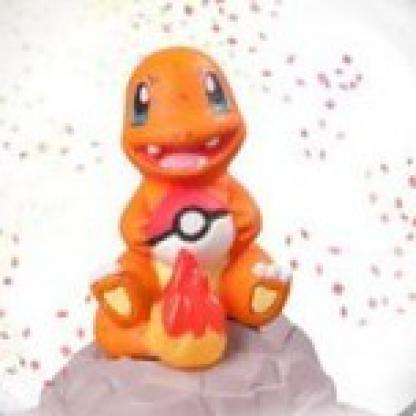Charmander: (89, 43, 326, 386)
